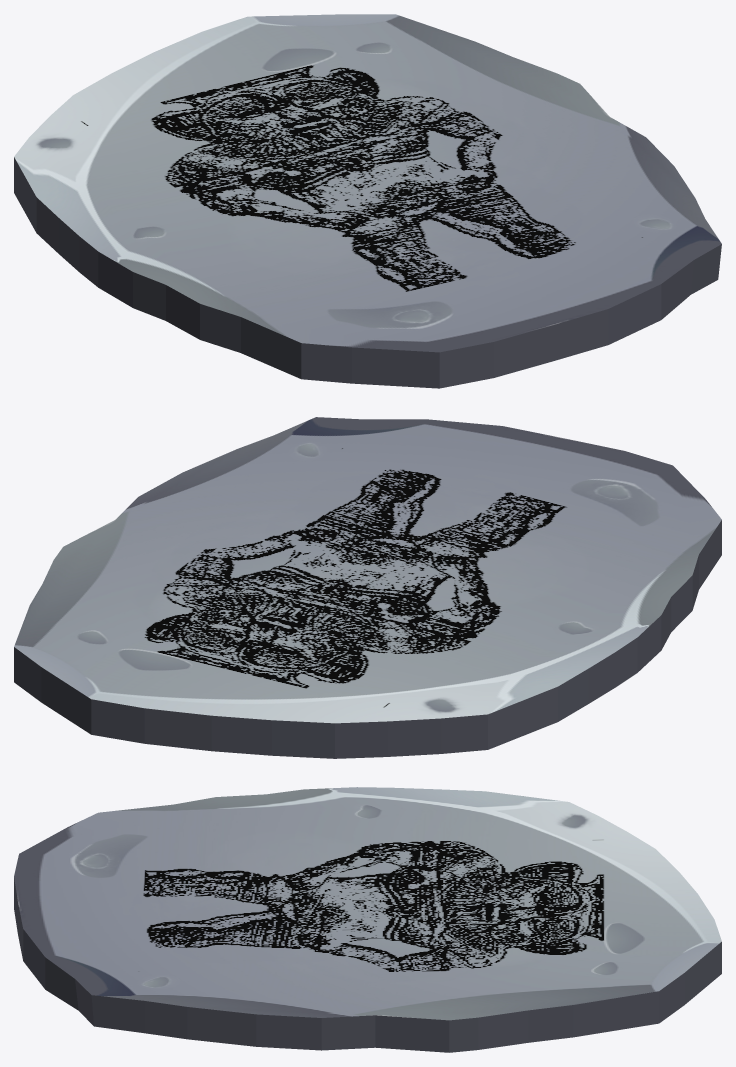
Rendered from runeBes.glb.
3 renders of one model, top to bottom at view 1: azimuth 30°, elevation 25°; view 2: azimuth 150°, elevation 25°; view 3: azimuth 270°, elevation 25°, orthographic. The views are drawn at different scales.
Parts seen in each view (by area): view 1: rune; view 2: rune; view 3: rune.
Part boxes in pixels (x1,y1,x2,y2): rune: (14,14,721,388); rune: (14,417,721,758); rune: (14,787,721,1052).
Size of the model in its own units: 0.7844 by 0.0509 by 1.01.
1 material, 1 textured.
